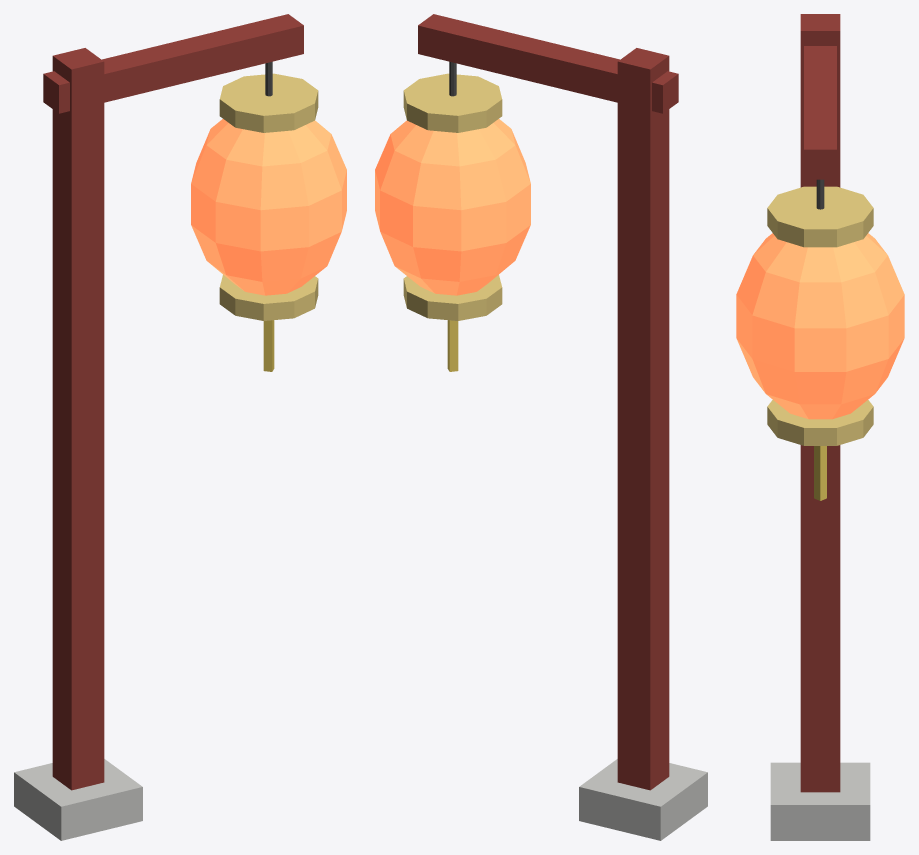
File: cn_lantern_post.glb
3 renders of one model, left to right at view 1: azimuth 30°, elevation 25°; view 2: azimuth 150°, elevation 25°; view 3: azimuth 270°, elevation 25°, orthographic. The views are drawn at different scales.
Visible parts, largest first — view 1: cn_lantern_post; view 2: cn_lantern_post; view 3: cn_lantern_post.
Part boxes in pixels (x1,y1,x2,y2): cn_lantern_post: (14, 14, 346, 840); cn_lantern_post: (375, 14, 707, 840); cn_lantern_post: (736, 14, 904, 840).
Size of the model in its own units: 1.09 by 2.65 by 0.5069.
